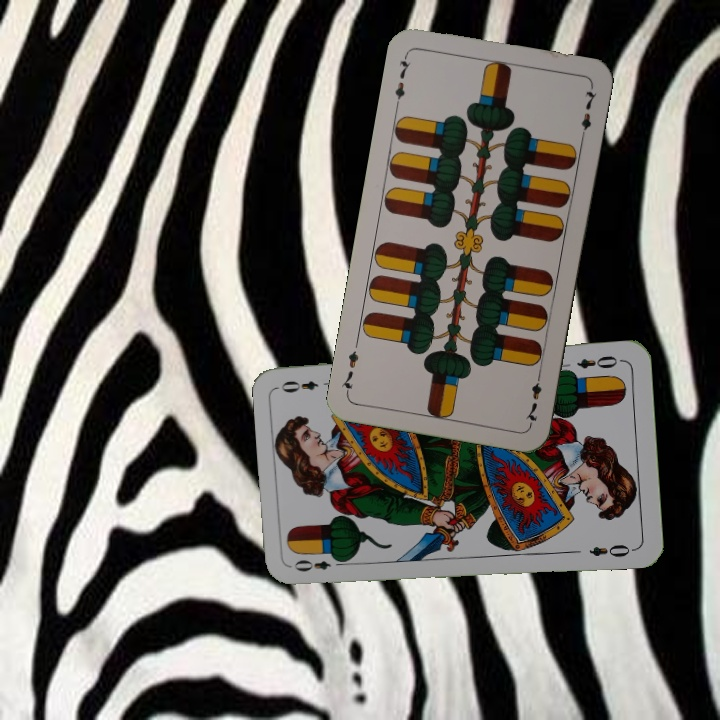E7: (390, 51, 413, 109), (522, 368, 544, 427)
EO: (290, 553, 348, 574), (573, 351, 620, 372)
